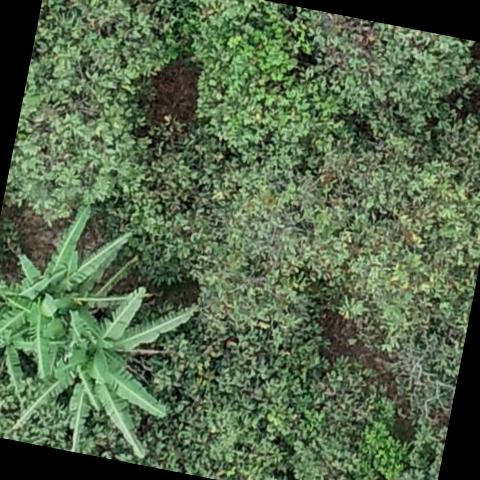Banana-plant: (8, 278, 188, 462), (0, 191, 131, 382)
